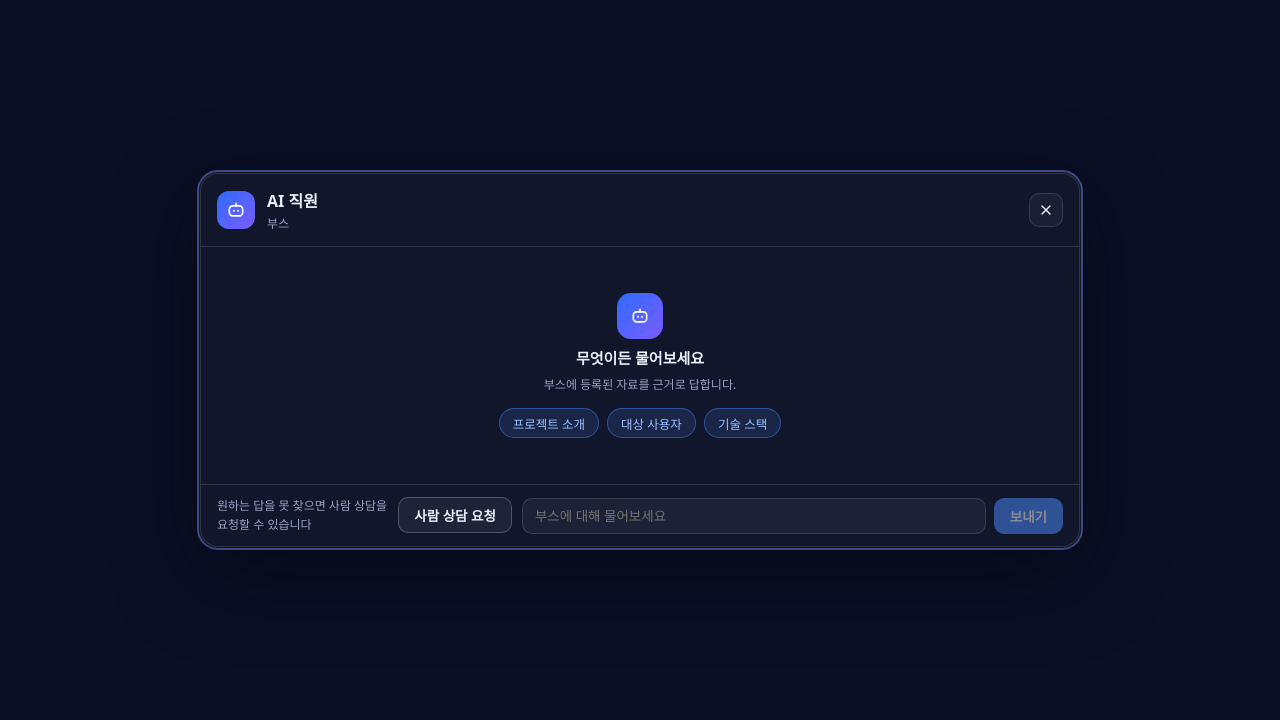
Test case: AiChatOverlay 실서버 결선·SSE 렌더링 › error envelope의 메시지와 재시도 UX를 표시한다
Later steps or results of the test are not shown.
Click the button "프로젝트 소개" at (549, 423), box left=499, top=408, right=599, bottom=438
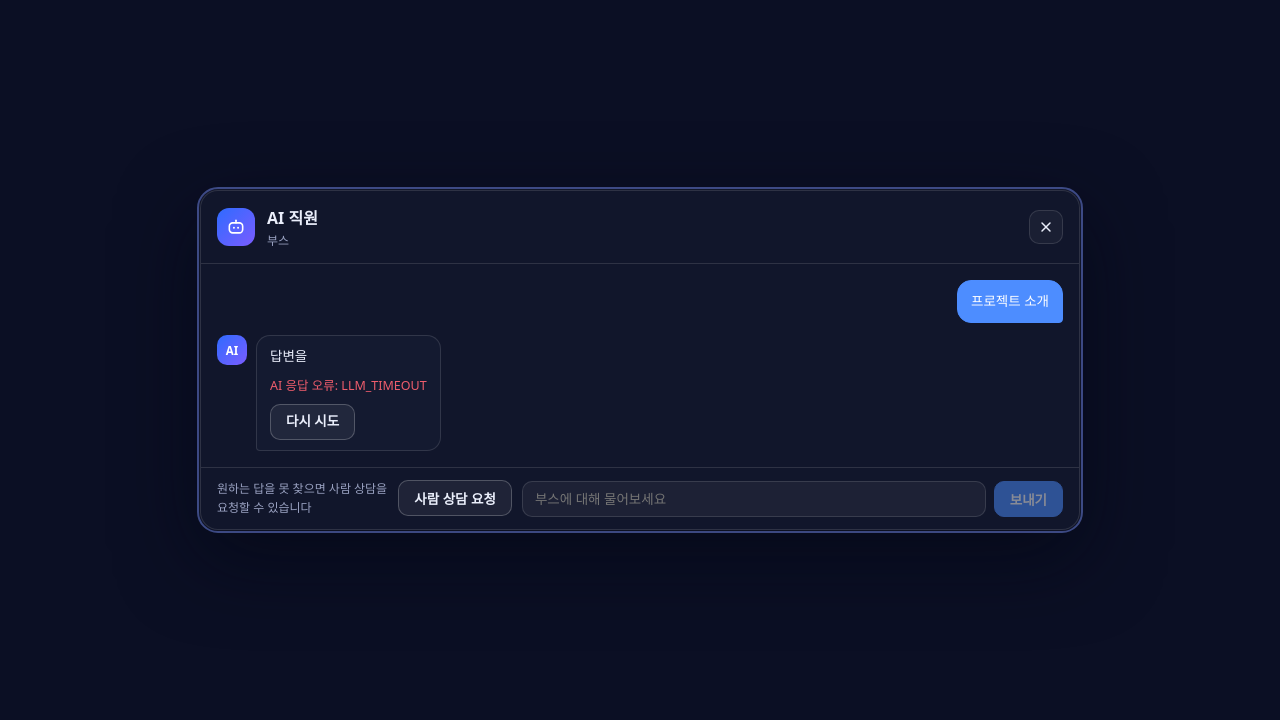
Check: the message shows "AI 응답 오류: LLM_TIMEOUT", box left=270, top=377, right=427, bottom=394
